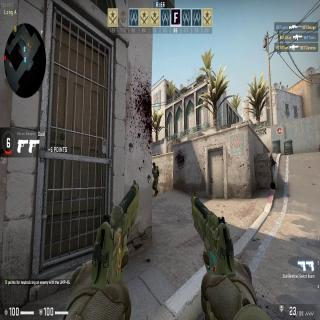T-Body: (152, 162, 159, 196)
T-Head: (152, 162, 156, 168)
